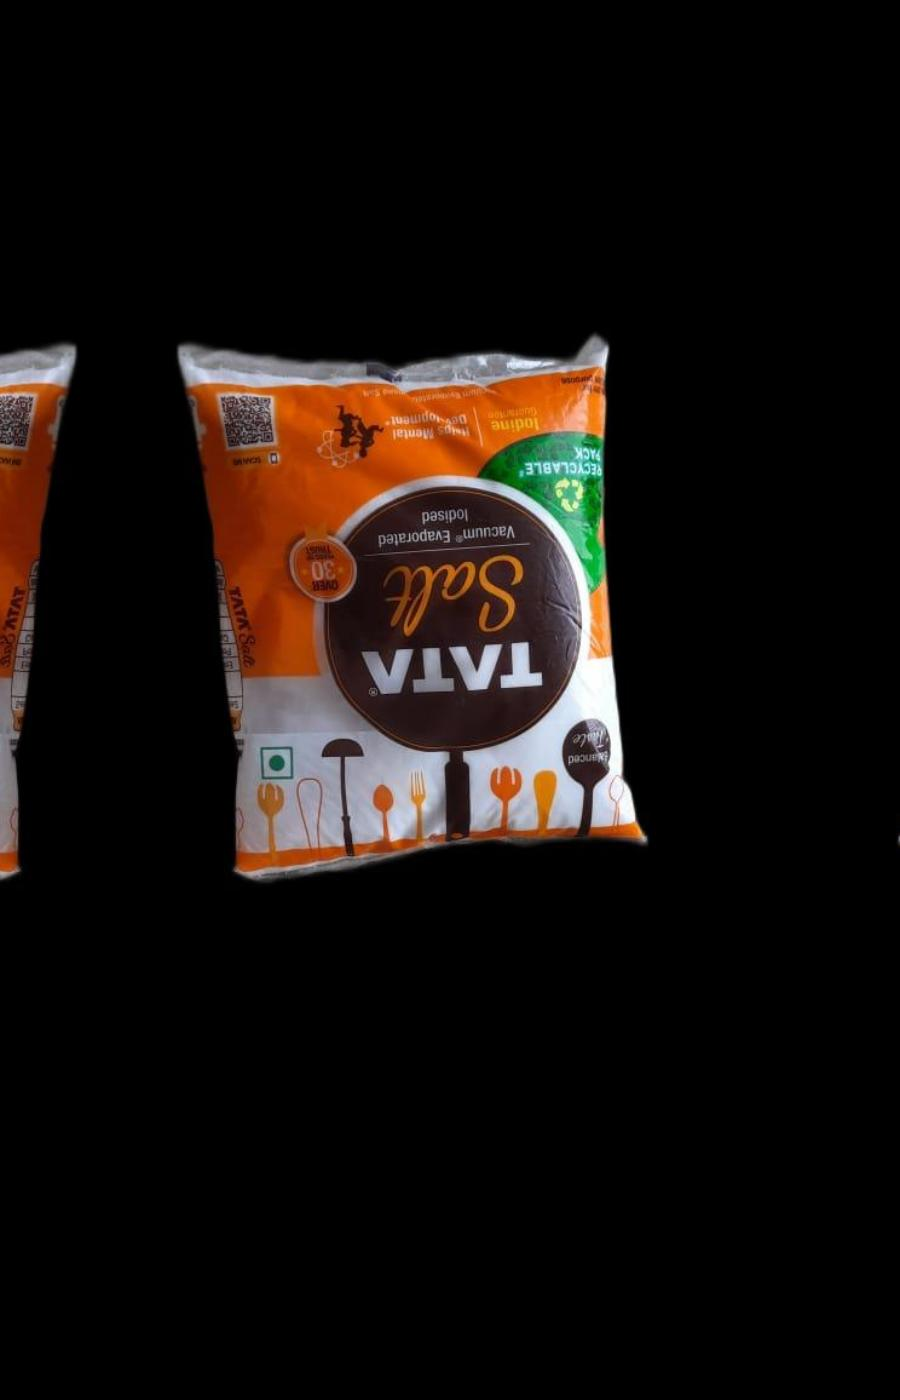Tata Salt Vacuum Evaporated Iodised Salt 1 kg Pouch: (153, 331, 668, 873)
